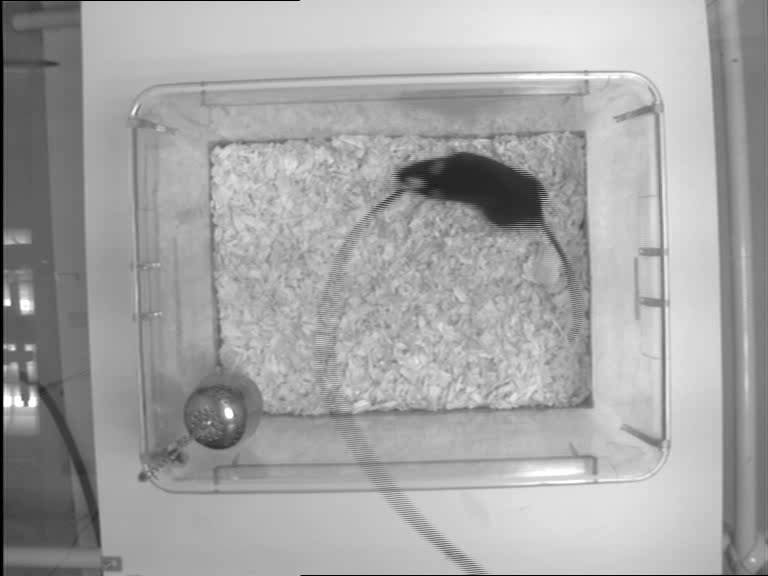mice: (398, 150, 583, 340)
